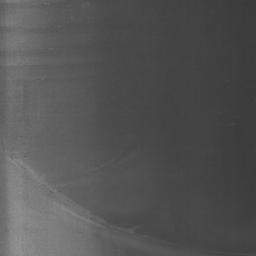Crease: (9, 158, 165, 245)
